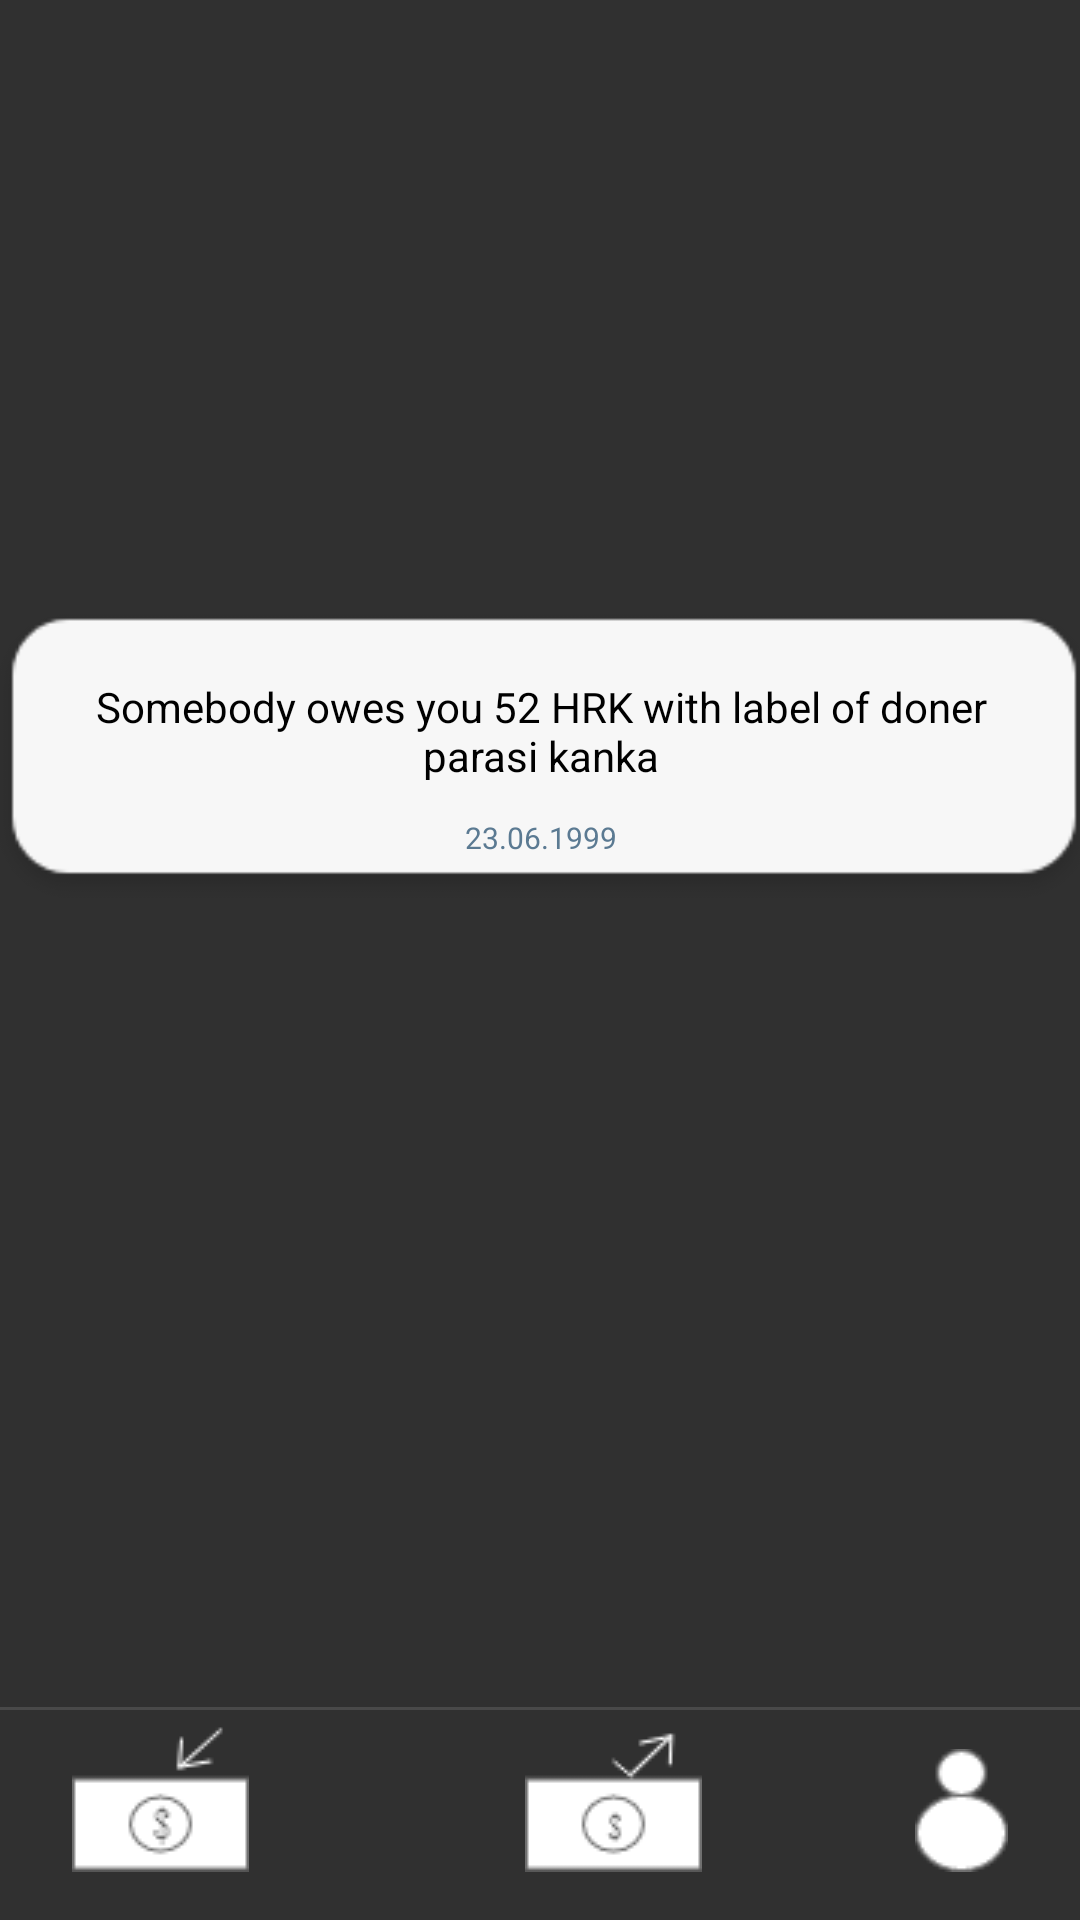

Locate icon controls on the screen. Image size 1080x1920, boxes as (left=x1, top=y1, right=x2, bottom=y2).
profile: (left=915, top=1749, right=1008, bottom=1872)
